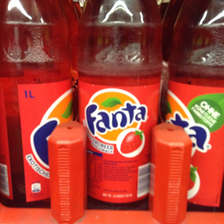soda: (77, 1, 165, 208), (1, 1, 70, 208), (168, 1, 224, 213)
